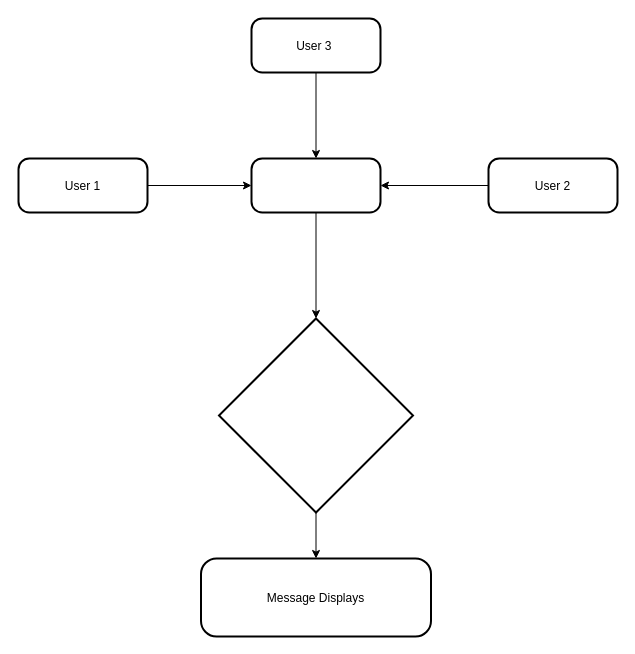
This 635x654 diagram has some shape labels left out. The box of each missing label's shape, as (x1, y1, x2, y2) in pixels:
Send message: (250, 157, 381, 213)
you recieve a message: (218, 317, 414, 513)
